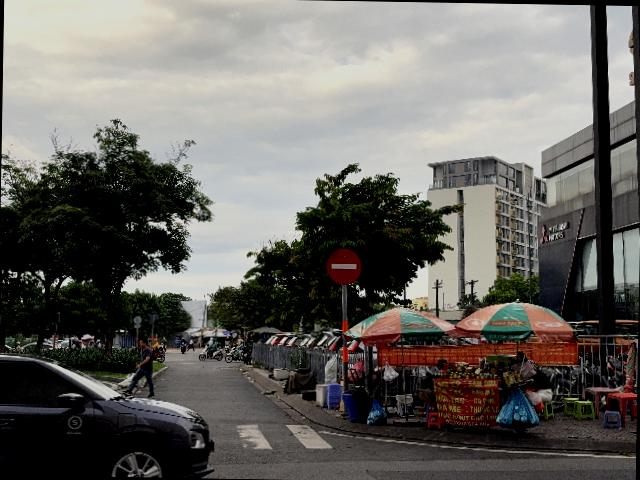cam-di-nguoc-chieu: (326, 248, 362, 285)
